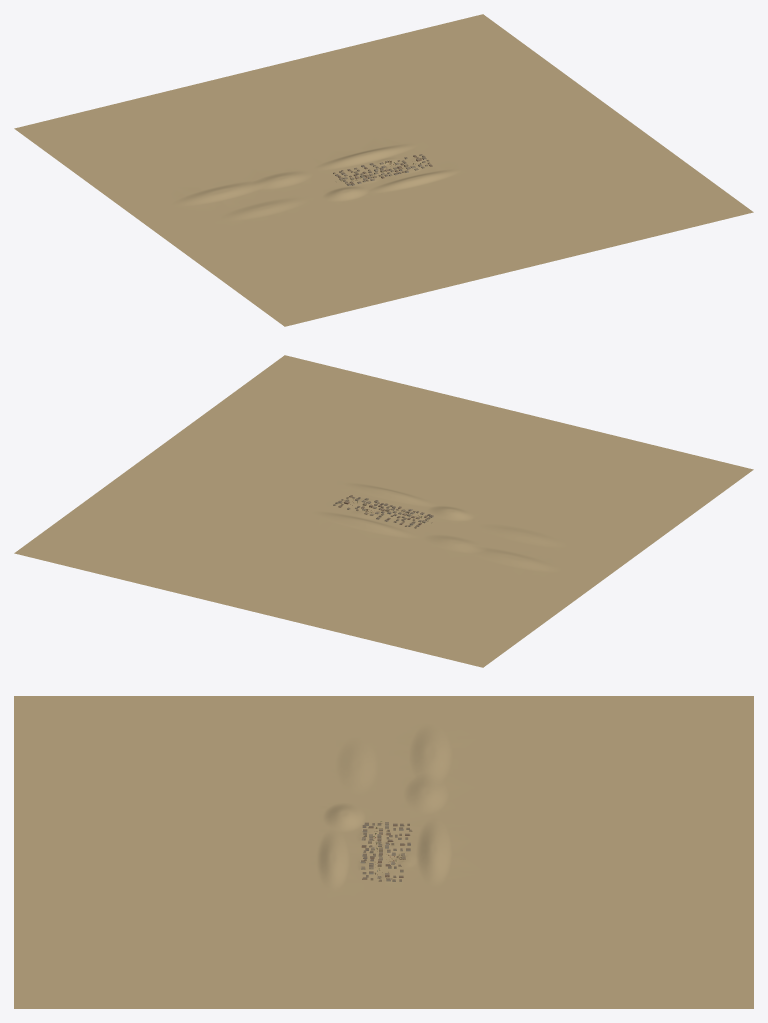
The picture shows the model from 3 angles, top to bottom: view 1: azimuth 30°, elevation 25°; view 2: azimuth 150°, elevation 25°; view 3: azimuth 270°, elevation 25°; orthographic projection. The views are drawn at different scales.
Parts seen in each view (by area): view 1: tile-61-road-sand-0-0, tile-62-road-sand-0-0, tile-63-road-sand-0-0, tile-74-road-sand-0-0, tile-14-road-sand-0-0, tile-4-road-sand-0-0, tile-8-road-sand-0-0, tile-20-road-sand-0-0, tile-26-road-sand-0-0, tile-36-road-sand-0-0, tile-37-road-sand-0-0, tile-48-road-sand-0-0 (+132 smaller); view 2: tile-53-road-sand-0-0, tile-54-road-sand-0-0, tile-50-road-sand-0-0, tile-49-road-sand-0-0, tile-51-road-sand-0-0, tile-73-road-sand-0-0, tile-74-road-sand-0-0, tile-8-road-sand-0-0, tile-52-road-sand-0-0, tile-3-road-sand-0-0, tile-14-road-sand-0-0, tile-34-road-sand-0-0 (+132 smaller); view 3: tile-62-road-sand-0-0, tile-67-road-sand-0-0, tile-75-road-sand-0-0, tile-60-road-sand-0-0, tile-70-road-sand-0-0, tile-84-road-sand-0-0, tile-87-road-sand-0-0, tile-89-road-sand-0-0, tile-91-road-sand-0-0, tile-94-road-sand-0-0, tile-108-road-sand-0-0, tile-111-road-sand-0-0 (+132 smaller).
Boxes of the visible parts, x1=… form: tile-61-road-sand-0-0: x1=168, y1=192, x2=230, y2=219; tile-62-road-sand-0-0: x1=208, y1=183, x2=269, y2=209; tile-63-road-sand-0-0: x1=248, y1=173, x2=309, y2=199; tile-74-road-sand-0-0: x1=231, y1=200, x2=292, y2=226; tile-14-road-sand-0-0: x1=116, y1=116, x2=177, y2=142; tile-4-road-sand-0-0: x1=173, y1=80, x2=234, y2=106; tile-8-road-sand-0-0: x1=331, y1=41, x2=393, y2=67; tile-20-road-sand-0-0: x1=354, y1=58, x2=415, y2=84; tile-26-road-sand-0-0: x1=139, y1=133, x2=201, y2=159; tile-36-road-sand-0-0: x1=83, y1=169, x2=144, y2=195; tile-37-road-sand-0-0: x1=122, y1=159, x2=184, y2=185; tile-48-road-sand-0-0: x1=106, y1=186, x2=167, y2=212; tile-53-road-sand-0-0: x1=337, y1=524, x2=398, y2=552; tile-54-road-sand-0-0: x1=297, y1=516, x2=359, y2=542; tile-50-road-sand-0-0: x1=456, y1=555, x2=517, y2=581; tile-49-road-sand-0-0: x1=495, y1=563, x2=557, y2=590; tile-51-road-sand-0-0: x1=416, y1=545, x2=478, y2=571; tile-73-road-sand-0-0: x1=541, y1=531, x2=602, y2=557; tile-74-road-sand-0-0: x1=502, y1=521, x2=563, y2=547; tile-8-road-sand-0-0: x1=126, y1=564, x2=188, y2=590; tile-52-road-sand-0-0: x1=377, y1=535, x2=438, y2=561; tile-3-road-sand-0-0: x1=325, y1=612, x2=386, y2=638; tile-14-road-sand-0-0: x1=387, y1=605, x2=448, y2=631; tile-34-road-sand-0-0: x1=93, y1=511, x2=154, y2=537; tile-62-road-sand-0-0: x1=378, y1=746, x2=441, y2=775; tile-67-road-sand-0-0: x1=378, y1=880, x2=441, y2=907; tile-75-road-sand-0-0: x1=316, y1=773, x2=378, y2=801; tile-60-road-sand-0-0: x1=378, y1=696, x2=441, y2=722; tile-70-road-sand-0-0: x1=378, y1=960, x2=441, y2=986; tile-84-road-sand-0-0: x1=253, y1=696, x2=316, y2=722; tile-87-road-sand-0-0: x1=253, y1=775, x2=316, y2=801; tile-89-road-sand-0-0: x1=253, y1=828, x2=316, y2=854; tile-91-road-sand-0-0: x1=253, y1=881, x2=316, y2=907; tile-94-road-sand-0-0: x1=253, y1=960, x2=316, y2=986; tile-108-road-sand-0-0: x1=128, y1=696, x2=191, y2=722; tile-111-road-sand-0-0: x1=128, y1=775, x2=191, y2=801.
Size of the model in its own units: 2272 by 14.61 by 2272.
